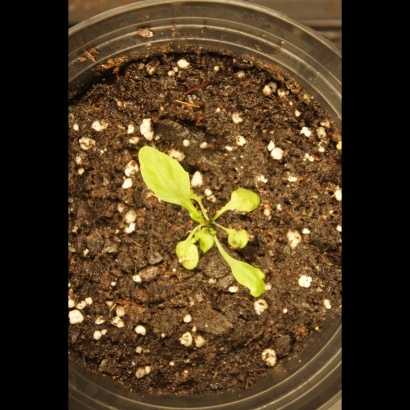leaf: (132, 138, 189, 211), (217, 251, 269, 299), (226, 181, 266, 220), (170, 236, 205, 278), (225, 226, 258, 253), (193, 224, 218, 252), (186, 181, 209, 204)
